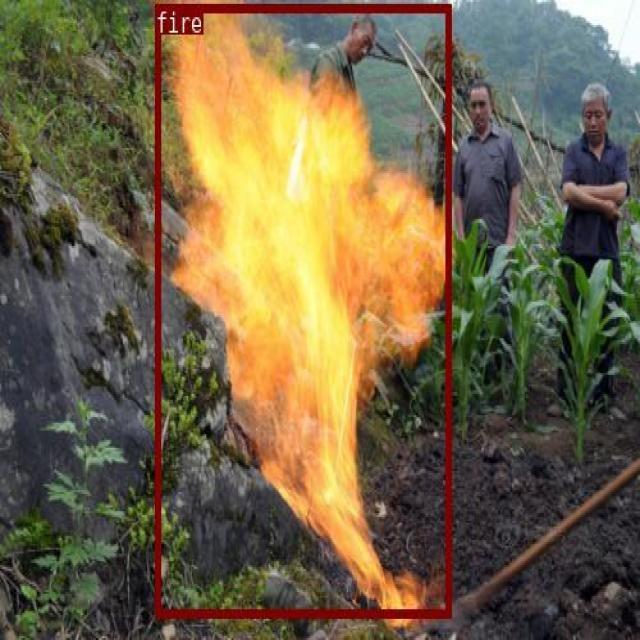fire: (154, 4, 450, 616)
